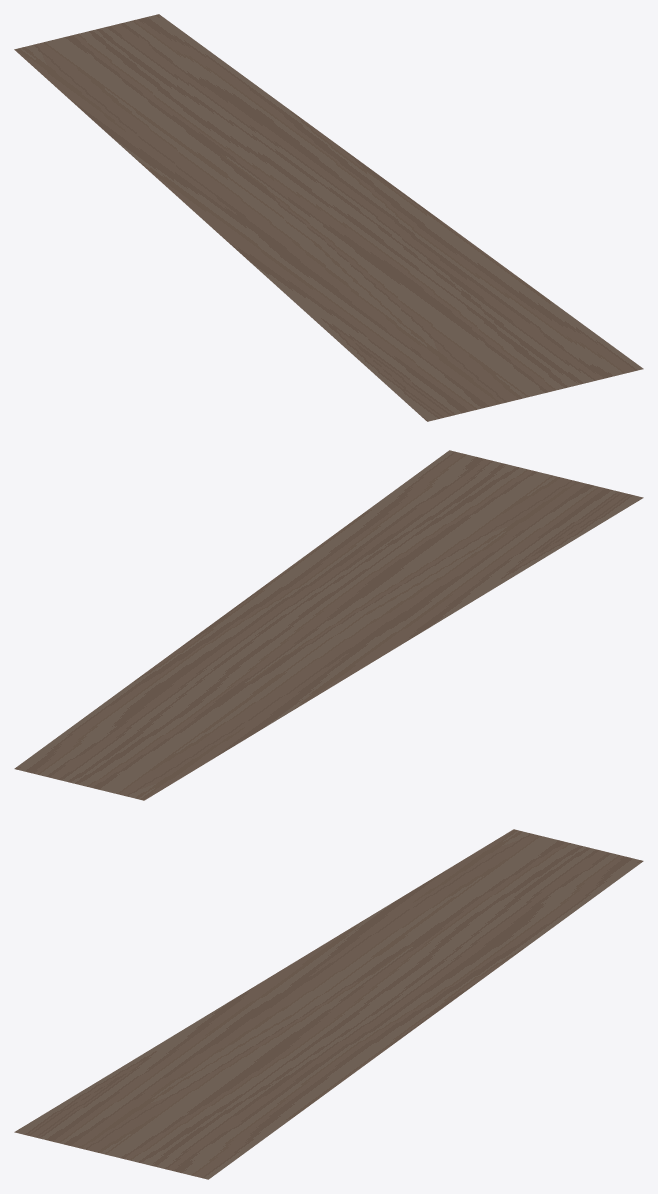
Rendered from kd_stage_135ded_4_141_exterior_piece_2.glb.
3 views of the same model, one above another, from view 1: azimuth 30°, elevation 25°; view 2: azimuth 150°, elevation 25°; view 3: azimuth 330°, elevation 25° (orthographic). The views are drawn at different scales.
Visible parts, largest first — view 1: kd_stage_135ded_4_141_exterior_piece_2; view 2: kd_stage_135ded_4_141_exterior_piece_2; view 3: kd_stage_135ded_4_141_exterior_piece_2.
Boxes of the visible parts, bbox=[...] form: kd_stage_135ded_4_141_exterior_piece_2: bbox=[14, 14, 643, 421]; kd_stage_135ded_4_141_exterior_piece_2: bbox=[14, 450, 643, 800]; kd_stage_135ded_4_141_exterior_piece_2: bbox=[14, 829, 643, 1179].
Bounding box in the file's own units: 0.2339 × 3.58e-07 × 0.9067.
1 material, 1 textured.
